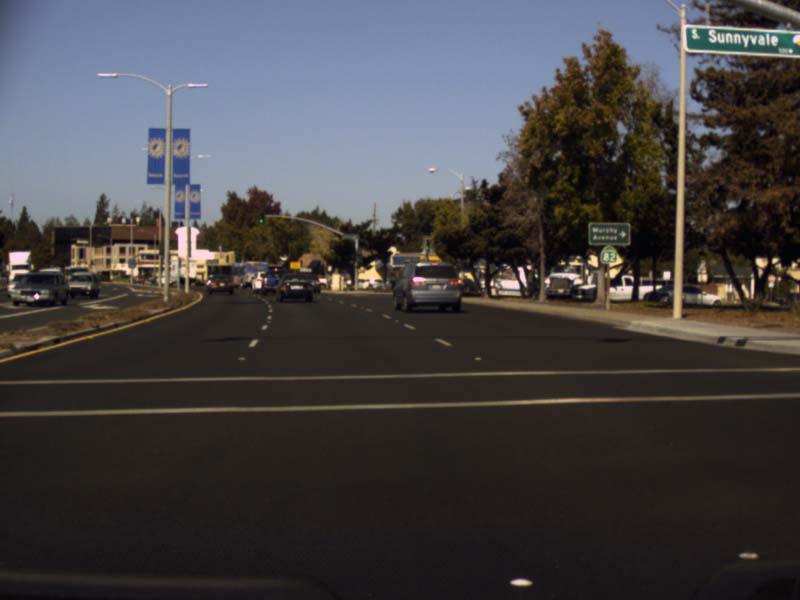Green: (258, 210, 264, 224), (356, 251, 361, 263), (425, 239, 430, 251)
